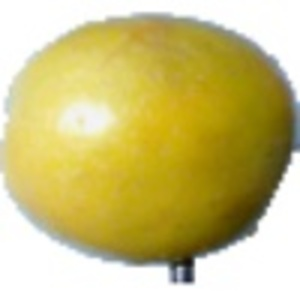maracujá: (1, 13, 300, 287)
